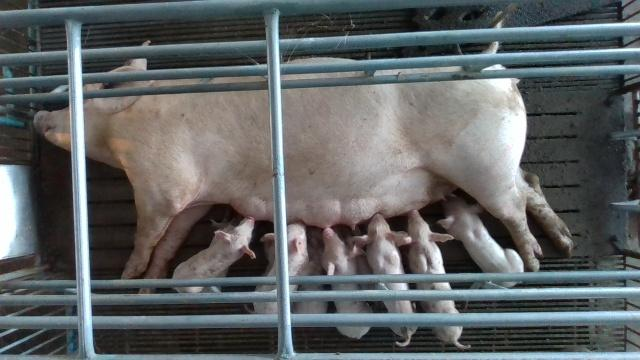piglet: (396, 207, 472, 349), (352, 212, 420, 348), (437, 193, 525, 288), (172, 215, 257, 292), (319, 225, 375, 339), (244, 221, 309, 315)
sow-sleep-lactate: (31, 38, 574, 295)
